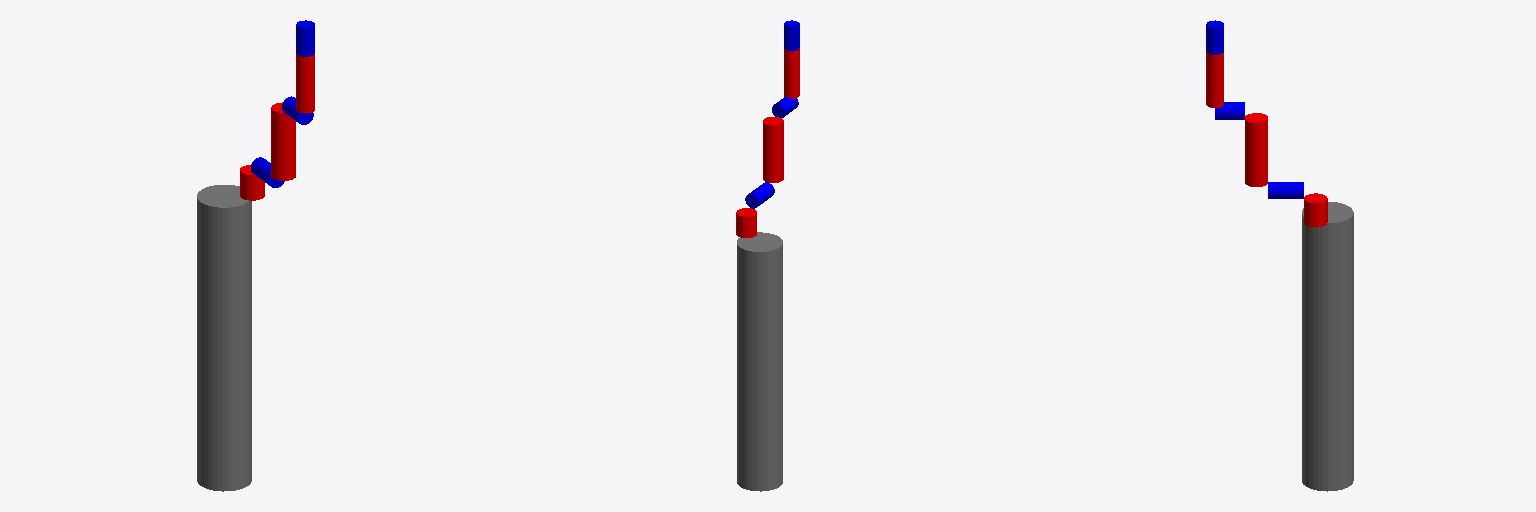
The robot description file, URDF, robot "generated_robot":
<?xml version="1.0"?>
<robot name="generated_robot">
  
  <mujoco>
    <compiler discardvisual="false"/>
  </mujoco>
  
  <link name="world"/>
  
  <joint name="world_to_body" type="fixed">
    <parent link="world"/>
    <child link="body"/>
    <origin xyz="0 0 1.0" rpy="0 0 0"/>
  </joint>
  
  <link name="body">
    <visual>
      <origin xyz="0 0 -0.5" rpy="0 0 0"/>
      <geometry>
        <cylinder radius="0.0880" length="1.0000"/>
      </geometry>
      <material name="grey">
        <color rgba="0.5 0.5 0.5 1.0"/>
      </material>
    </visual>
    <inertial>
      <mass value="10.0"/>
      <inertia ixx="0.01" ixy="0" ixz="0" iyy="0.01" iyz="0" izz="0.01"/>
    </inertial>
  </link>
  
  <joint name="joint_0" type="revolute">
    <parent link="body"/>
    <child link="link_0"/>
    <origin xyz="0.08 0.0 0.0" rpy="0.0000 0.0000 0.0000"/>
    <axis xyz="0 0 1"/>
    <limit lower="-3.1416" upper="3.1416" effort="10" velocity="1"/>
  </joint>
  <joint name="joint_1" type="revolute">
    <parent link="link_0"/>
    <child link="link_1"/>
    <origin xyz="0.0 -0.08 0.09" rpy="0.0000 0.0000 0.0000"/>
    <axis xyz="0 1 0"/>
    <limit lower="-3.1416" upper="3.1416" effort="10" velocity="1"/>
  </joint>
  <joint name="joint_2" type="revolute">
    <parent link="link_1"/>
    <child link="link_2"/>
    <origin xyz="0.0 -0.12 0.06" rpy="0.0000 0.0000 0.0000"/>
    <axis xyz="0 0 1"/>
    <limit lower="-3.1416" upper="3.1416" effort="10" velocity="1"/>
  </joint>
  <joint name="joint_3" type="revolute">
    <parent link="link_2"/>
    <child link="link_3"/>
    <origin xyz="0.0 -0.08 0.24" rpy="0.0000 0.0000 0.0000"/>
    <axis xyz="0 1 0"/>
    <limit lower="-3.1416" upper="3.1416" effort="10" velocity="1"/>
  </joint>
  <joint name="joint_4" type="revolute">
    <parent link="link_3"/>
    <child link="link_4"/>
    <origin xyz="0.0 -0.1 0.05" rpy="0.0000 0.0000 0.0000"/>
    <axis xyz="0 0 1"/>
    <limit lower="-3.1416" upper="3.1416" effort="10" velocity="1"/>
  </joint>
  <joint name="joint_5" type="revolute">
    <parent link="link_4"/>
    <child link="link_5"/>
    <origin xyz="0.0 0.0 0.2" rpy="0.0000 0.0000 0.0000"/>
    <axis xyz="0 1 0"/>
    <limit lower="-3.1416" upper="3.1416" effort="10" velocity="1"/>
  </joint>
  <joint name="joint_6" type="revolute">
    <parent link="link_5"/>
    <child link="link_6"/>
    <origin xyz="0.0 0.0 0.1" rpy="0.0000 0.0000 0.0000"/>
    <axis xyz="0 0 1"/>
    <limit lower="-3.1416" upper="3.1416" effort="10" velocity="1"/>
  </joint>
  
  <link name="link_0">
    <visual>
      <origin xyz="0.0000 -0.0400 0.0450" rpy="0.0000 0.0000 0.0000"/>
      <geometry>
        <cylinder radius="0.0400" length="0.0900"/>
      </geometry>
      <material name="mat_0">
        <color rgba="1 0 0 1.0"/>
      </material>
    </visual>
    <inertial>
      <mass value="1.0"/>
      <inertia ixx="0.01" ixy="0" ixz="0" iyy="0.01" iyz="0" izz="0.01"/>
    </inertial>
  </link>
  <link name="link_1">
    <visual>
      <origin xyz="0.0000 -0.0600 0.0300" rpy="1.5708 0.0000 0.0000"/>
      <geometry>
        <cylinder radius="0.0300" length="0.1200"/>
      </geometry>
      <material name="mat_1">
        <color rgba="0 0 1 1.0"/>
      </material>
    </visual>
    <inertial>
      <mass value="1.0"/>
      <inertia ixx="0.01" ixy="0" ixz="0" iyy="0.01" iyz="0" izz="0.01"/>
    </inertial>
  </link>
  <link name="link_2">
    <visual>
      <origin xyz="0.0000 -0.0400 0.1200" rpy="0.0000 0.0000 0.0000"/>
      <geometry>
        <cylinder radius="0.0400" length="0.2400"/>
      </geometry>
      <material name="mat_2">
        <color rgba="1 0 0 1.0"/>
      </material>
    </visual>
    <inertial>
      <mass value="1.0"/>
      <inertia ixx="0.01" ixy="0" ixz="0" iyy="0.01" iyz="0" izz="0.01"/>
    </inertial>
  </link>
  <link name="link_3">
    <visual>
      <origin xyz="0.0000 -0.0500 0.0250" rpy="1.5708 0.0000 0.0000"/>
      <geometry>
        <cylinder radius="0.0300" length="0.1000"/>
      </geometry>
      <material name="mat_3">
        <color rgba="0 0 1 1.0"/>
      </material>
    </visual>
    <inertial>
      <mass value="1.0"/>
      <inertia ixx="0.01" ixy="0" ixz="0" iyy="0.01" iyz="0" izz="0.01"/>
    </inertial>
  </link>
  <link name="link_4">
    <visual>
      <origin xyz="0.0000 0.0000 0.1000" rpy="0.0000 0.0000 0.0000"/>
      <geometry>
        <cylinder radius="0.0300" length="0.2000"/>
      </geometry>
      <material name="mat_4">
        <color rgba="1 0 0 1.0"/>
      </material>
    </visual>
    <inertial>
      <mass value="1.0"/>
      <inertia ixx="0.01" ixy="0" ixz="0" iyy="0.01" iyz="0" izz="0.01"/>
    </inertial>
  </link>
  <link name="link_5">
    <visual>
      <origin xyz="0.0000 0.0000 0.0500" rpy="0.0000 0.0000 0.0000"/>
      <geometry>
        <cylinder radius="0.0300" length="0.1000"/>
      </geometry>
      <material name="mat_5">
        <color rgba="0 0 1 1.0"/>
      </material>
    </visual>
    <inertial>
      <mass value="1.0"/>
      <inertia ixx="0.01" ixy="0" ixz="0" iyy="0.01" iyz="0" izz="0.01"/>
    </inertial>
  </link>
  <link name="link_6">
    <inertial>
      <mass value="1.0"/>
      <inertia ixx="0.01" ixy="0" ixz="0" iyy="0.01" iyz="0" izz="0.01"/>
    </inertial>
  </link>
</robot>

--- Facts derived from the render (not from the file) ---
3 views of the same robot in one strip: view 1: azimuth 30°, elevation 25°; view 2: azimuth 150°, elevation 25°; view 3: azimuth 270°, elevation 25° (orthographic).
Model generated_robot with 9 links and 8 joints (7 revolute, 1 fixed), rooted at world, posed all joints at 0.
Links seen in each view (by area): view 1: body, link_2, link_4, link_0, link_5; view 2: body, link_2, link_4, link_0; view 3: body, link_2, link_4, link_0, link_1, link_5.
Link boxes in pixels (box(x1,y1,x2,y2)): body: box(197, 185, 251, 491); link_2: box(271, 102, 295, 180); link_4: box(296, 54, 314, 113); link_0: box(240, 165, 264, 200); link_5: box(296, 20, 314, 56); body: box(737, 232, 782, 491); link_2: box(763, 117, 783, 182); link_4: box(784, 48, 799, 98); link_0: box(736, 208, 756, 237); body: box(1302, 202, 1353, 491); link_2: box(1245, 113, 1267, 186); link_4: box(1206, 52, 1223, 107); link_0: box(1304, 193, 1327, 227); link_1: box(1268, 182, 1303, 198); link_5: box(1206, 20, 1223, 54).
Size in the robot's own frame: 0.208 by 0.498 by 1.74 metres.
Geometry: primitives only (box / cylinder / sphere), no mesh files.
